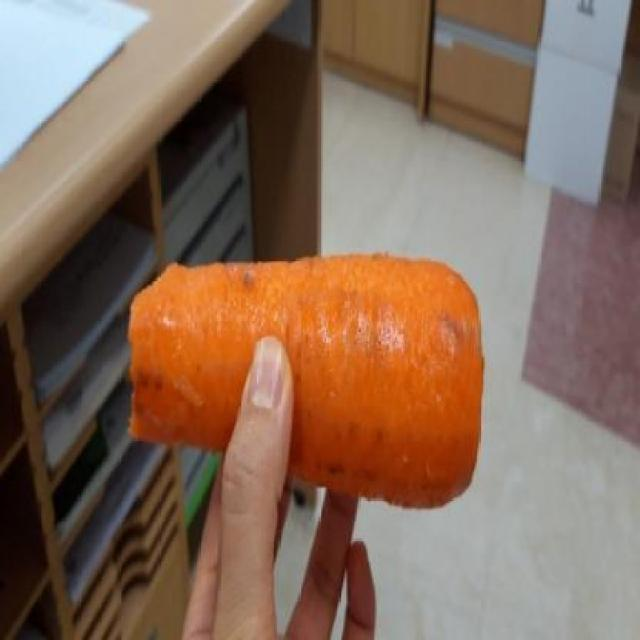carrot: (120, 233, 488, 521)
